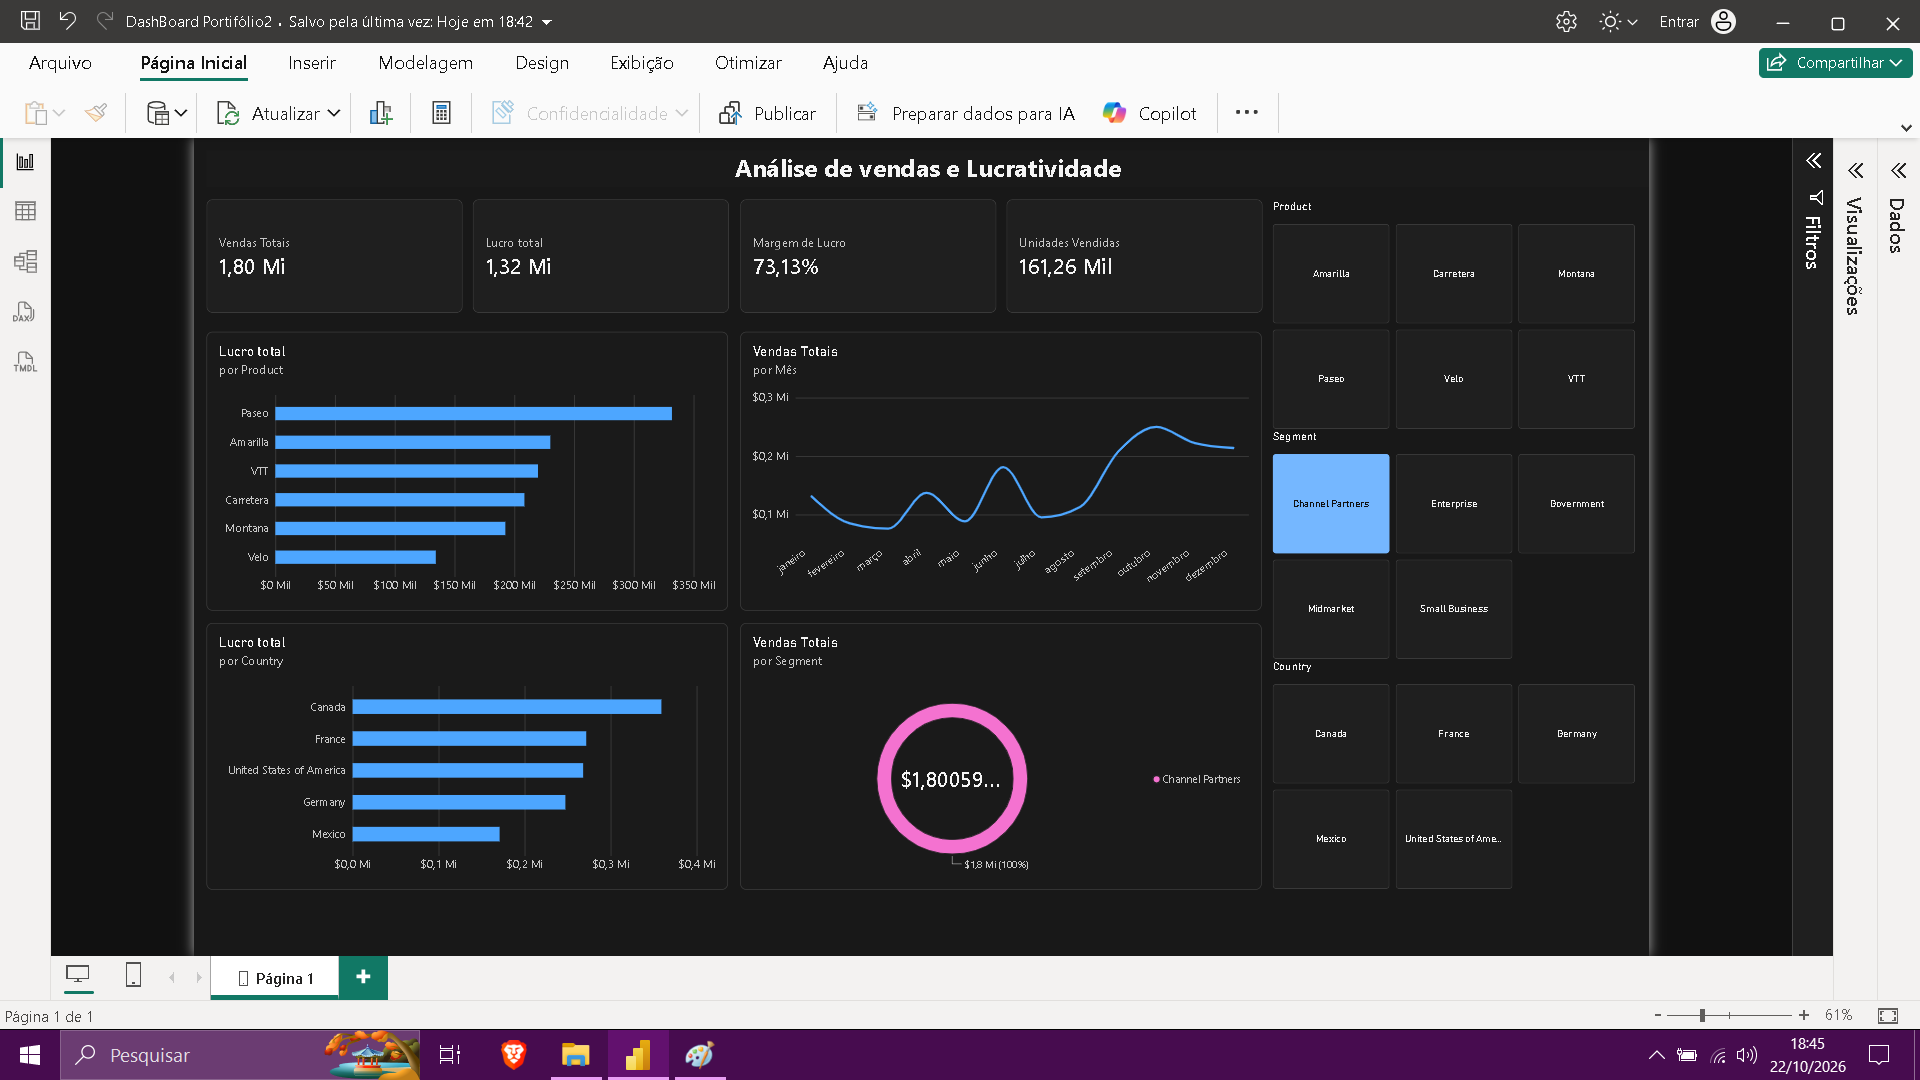

The page's visual inventory and layout, read from the dashboard file:
{"tool":"powerbi","page":{"name":"Página 1","canvas":[1920,1080],"ordinal":0},"visuals":[{"type":"textbox","box":[16,16,1904,48],"z":0},{"type":"cardVisual","fields":{"Data":["financials.Vendas Totais"]},"box":[16,80,338.5,150.3],"z":1000},{"type":"cardVisual","fields":{"Data":["financials.Lucro total"]},"box":[368,80,338.5,150.3],"z":2000},{"type":"cardVisual","fields":{"Data":["financials.Margem de Lucro"]},"box":[720,80,338.5,150.3],"z":3000},{"type":"cardVisual","fields":{"Data":["financials.Unidades Vendidas"]},"box":[1072,80,338.5,150.3],"z":4000},{"type":"lineChart","fields":{"Category":["financials.Date.Variação.Hierarquia de datas.Ano","financials.Date.Variação.Hierarquia de datas.Trimestre","financials.Date.Variação.Hierarquia de datas.Mês","financials.Date.Variação.Hierarquia de datas.Dia"],"Y":["financials.Vendas Totais"]},"box":[720,256,688,368],"z":5000},{"type":"clusteredBarChart","fields":{"Category":["financials.Product"],"Y":["financials.Lucro total"]},"box":[16,256,688,368],"z":6000},{"type":"donutChart","fields":{"Category":["financials.Segment"],"Y":["financials.Vendas Totais"]},"box":[720,640,688,352],"z":7000},{"type":"clusteredBarChart","fields":{"Category":["financials.Country"],"Y":["financials.Lucro total"]},"box":[16,640,688,352],"z":8000},{"type":"advancedSlicerVisual","fields":{"Values":["financials.Country"]},"box":[1424,688,480,304],"z":9000},{"type":"advancedSlicerVisual","fields":{"Values":["financials.Segment"]},"box":[1424,384,480,304],"z":10000},{"type":"advancedSlicerVisual","fields":{"Values":["financials.Product"]},"box":[1424,80,480,304],"z":11000}]}

Visuals, with their boxes on the page's 1920x1080 design canvas (x1, y1, x2, y2). These are canvas units, not pixel positions in the 1920x1080 screenshot, which may show the page scaled, cropped or inside an application window:
textbox: select_region(16, 16, 1920, 64)
cardVisual - financials.Vendas Totais: select_region(16, 80, 354, 230)
cardVisual - financials.Lucro total: select_region(368, 80, 706, 230)
cardVisual - financials.Margem de Lucro: select_region(720, 80, 1058, 230)
cardVisual - financials.Unidades Vendidas: select_region(1072, 80, 1410, 230)
lineChart - financials.Date.Variação.Hierarquia de datas.Ano x financials.Date.Variação.Hierarquia de datas.Trimestre: select_region(720, 256, 1408, 624)
clusteredBarChart - financials.Product x financials.Lucro total: select_region(16, 256, 704, 624)
donutChart - financials.Segment x financials.Vendas Totais: select_region(720, 640, 1408, 992)
clusteredBarChart - financials.Country x financials.Lucro total: select_region(16, 640, 704, 992)
advancedSlicerVisual - financials.Country: select_region(1424, 688, 1904, 992)
advancedSlicerVisual - financials.Segment: select_region(1424, 384, 1904, 688)
advancedSlicerVisual - financials.Product: select_region(1424, 80, 1904, 384)
